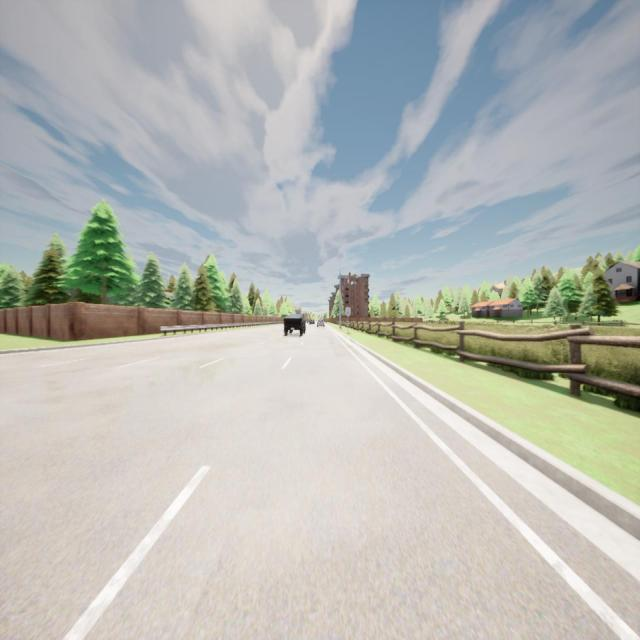Traffic_Signs: (345, 307, 351, 316)
Vehicle: (283, 313, 306, 337), (317, 319, 325, 327), (309, 317, 315, 325)
